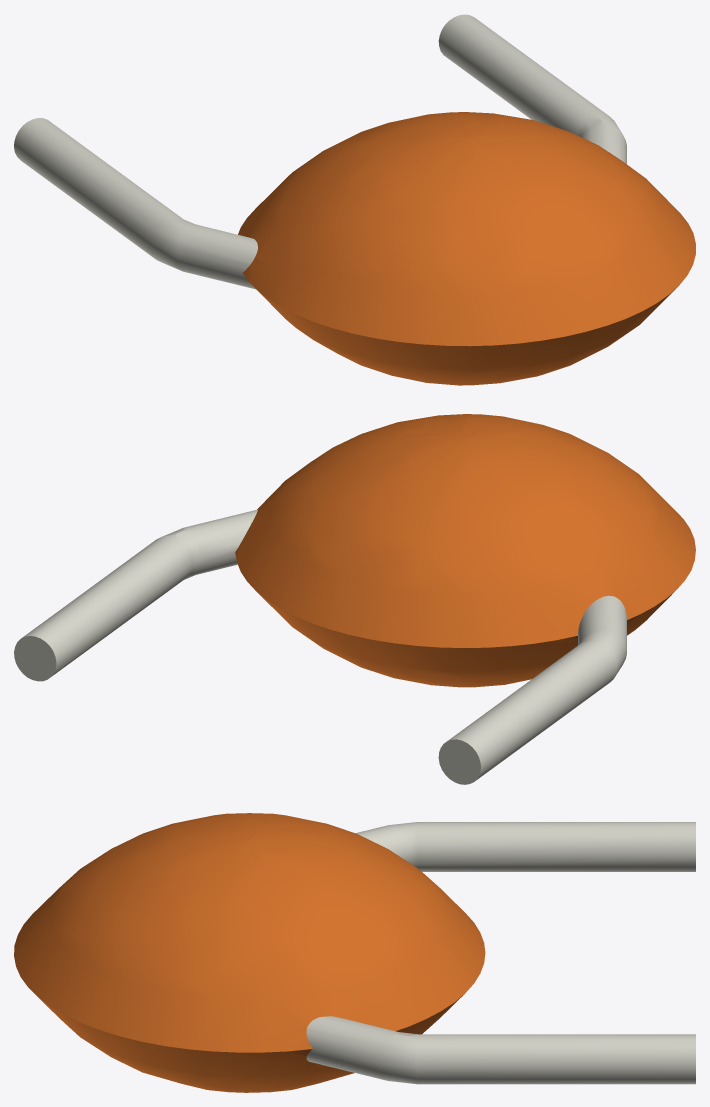
Rendered from c-disc-d4.7-w2.5-p5.00.glb.
3 renders of one model, top to bottom at view 1: azimuth 30°, elevation 25°; view 2: azimuth 150°, elevation 25°; view 3: azimuth 270°, elevation 25°, orthographic. The views are drawn at different scales.
Parts seen in each view (by area): view 1: PLASTIC-ORANGE-01, PIN-01; view 2: PLASTIC-ORANGE-01, PIN-01; view 3: PLASTIC-ORANGE-01, PIN-01.
Boxes of the visible parts, x1=… form: PLASTIC-ORANGE-01: x1=238, y1=112, x2=695, y2=385; PIN-01: x1=14, y1=14, x2=626, y2=289; PLASTIC-ORANGE-01: x1=235, y1=414, x2=695, y2=687; PIN-01: x1=14, y1=509, x2=626, y2=784; PLASTIC-ORANGE-01: x1=14, y1=813, x2=485, y2=1092; PIN-01: x1=306, y1=822, x2=695, y2=1084.
Bounding box in the file's own units: 5.5 × 2.5 × 6.8.
